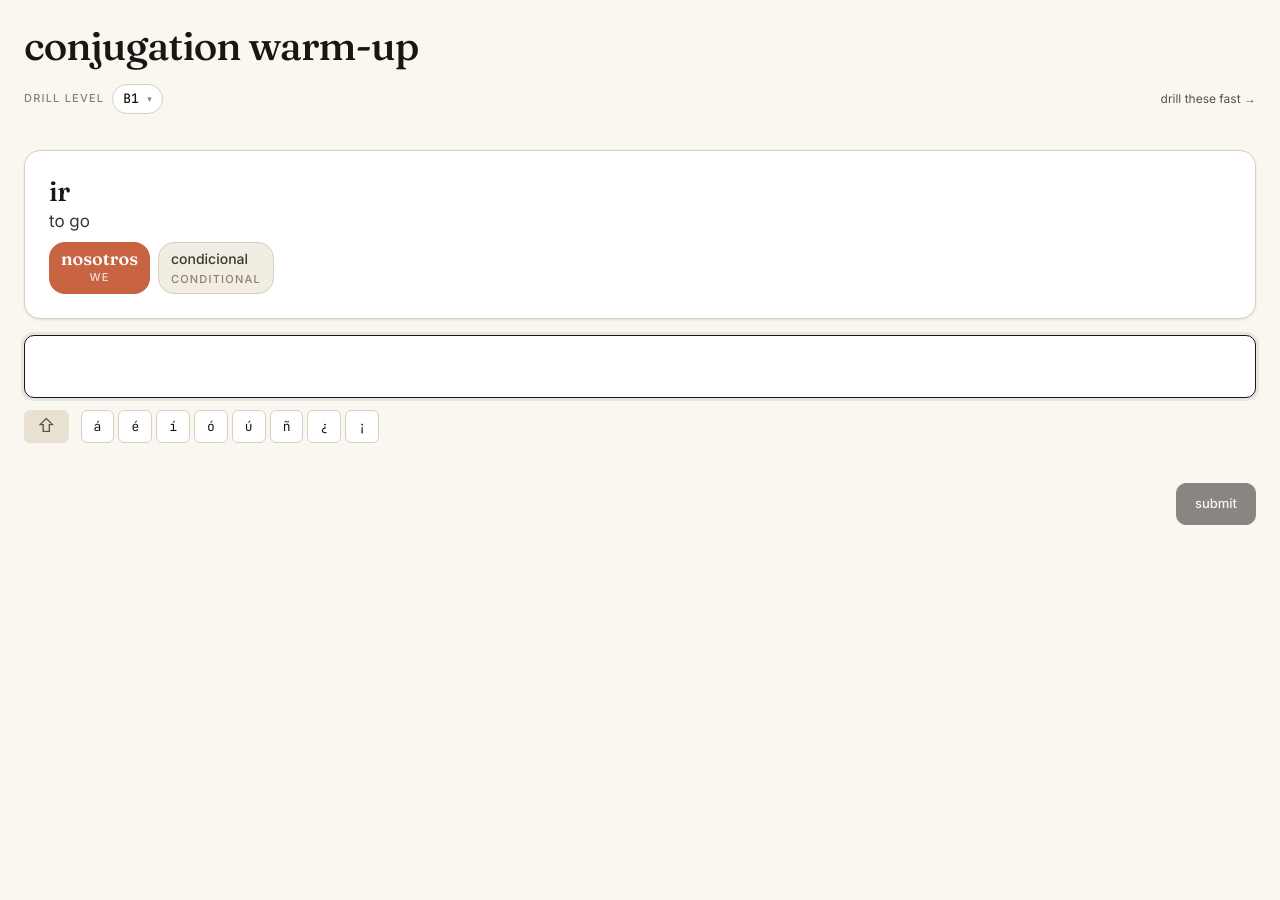
Scenario: ConjugationPage › finish session opens the review recap with accuracy + practice-more
In the field: (640, 366) x1=24 y1=334 x2=1256 y2=398, type "iríamos"
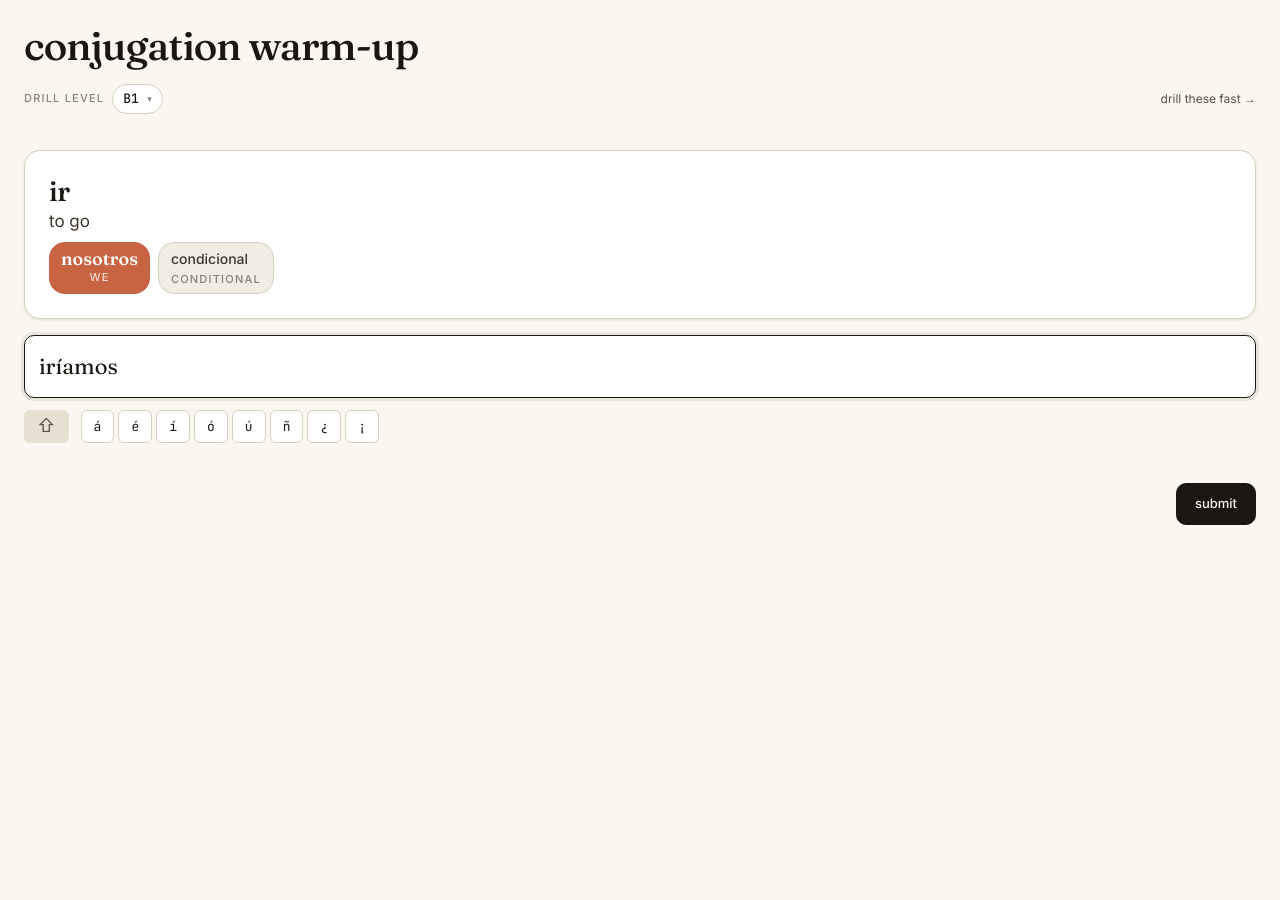
Click the button "submit": click(1216, 504) x1=1176 y1=483 x2=1256 y2=524
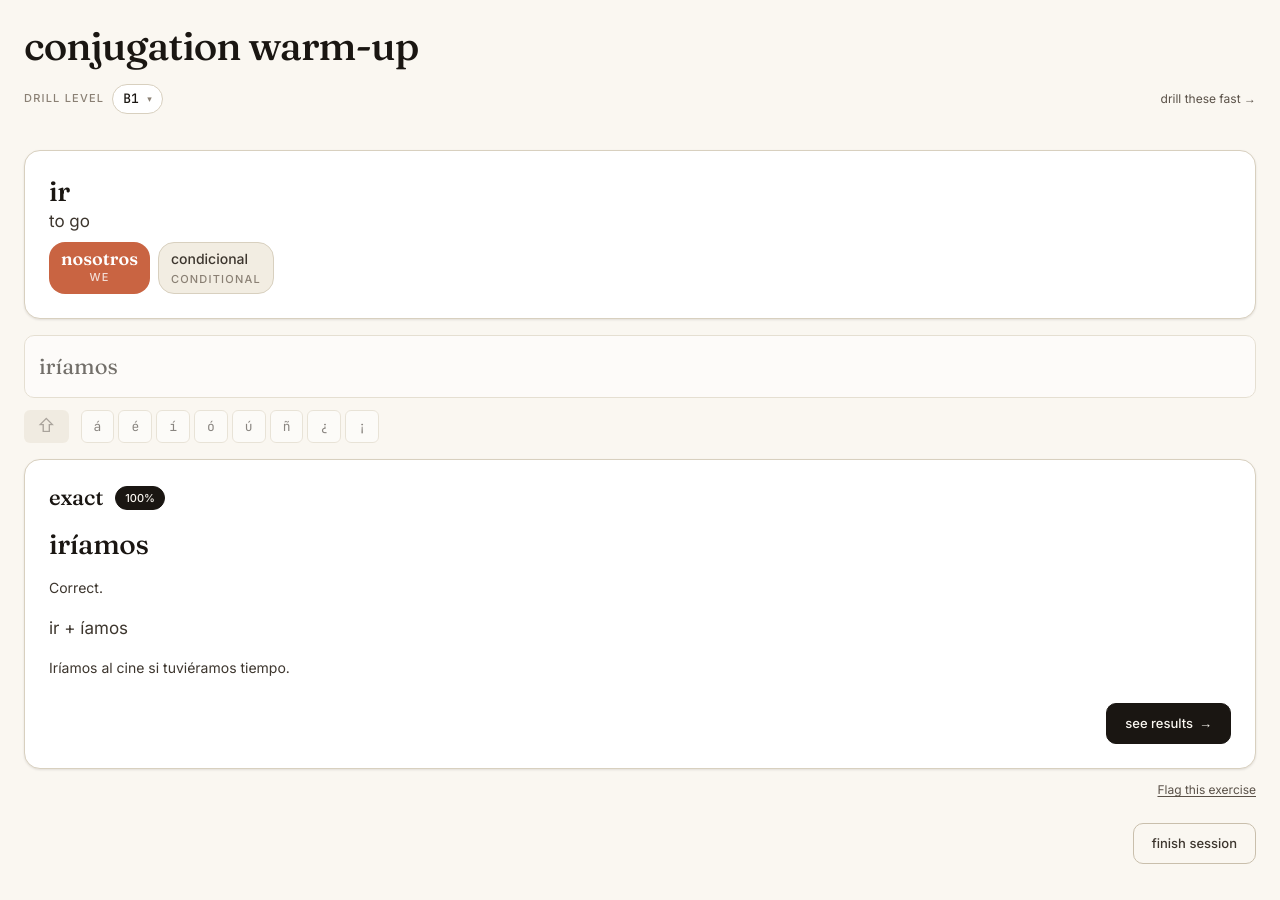
Check: the text "ir + íamos" is shown, box x1=49 y1=618 x2=128 y2=638
Click the button "finish session": click(1194, 843) x1=1133 y1=823 x2=1256 y2=864
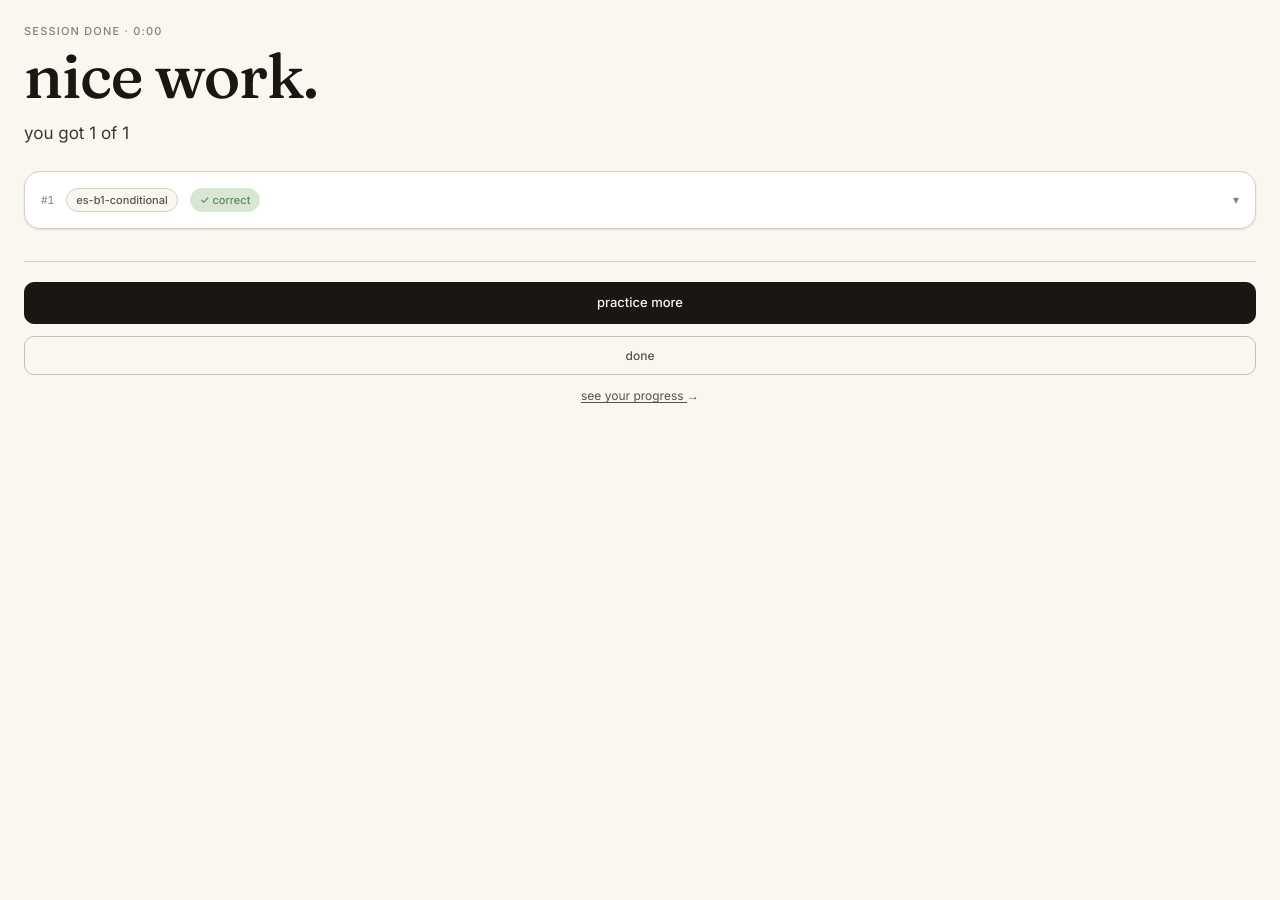
Check: the text "you got 1 of 1" is shown, box x1=24 y1=124 x2=129 y2=144
Check: the button "practice more" is shown, box x1=24 y1=282 x2=1256 y2=324
Check: the field is gone
